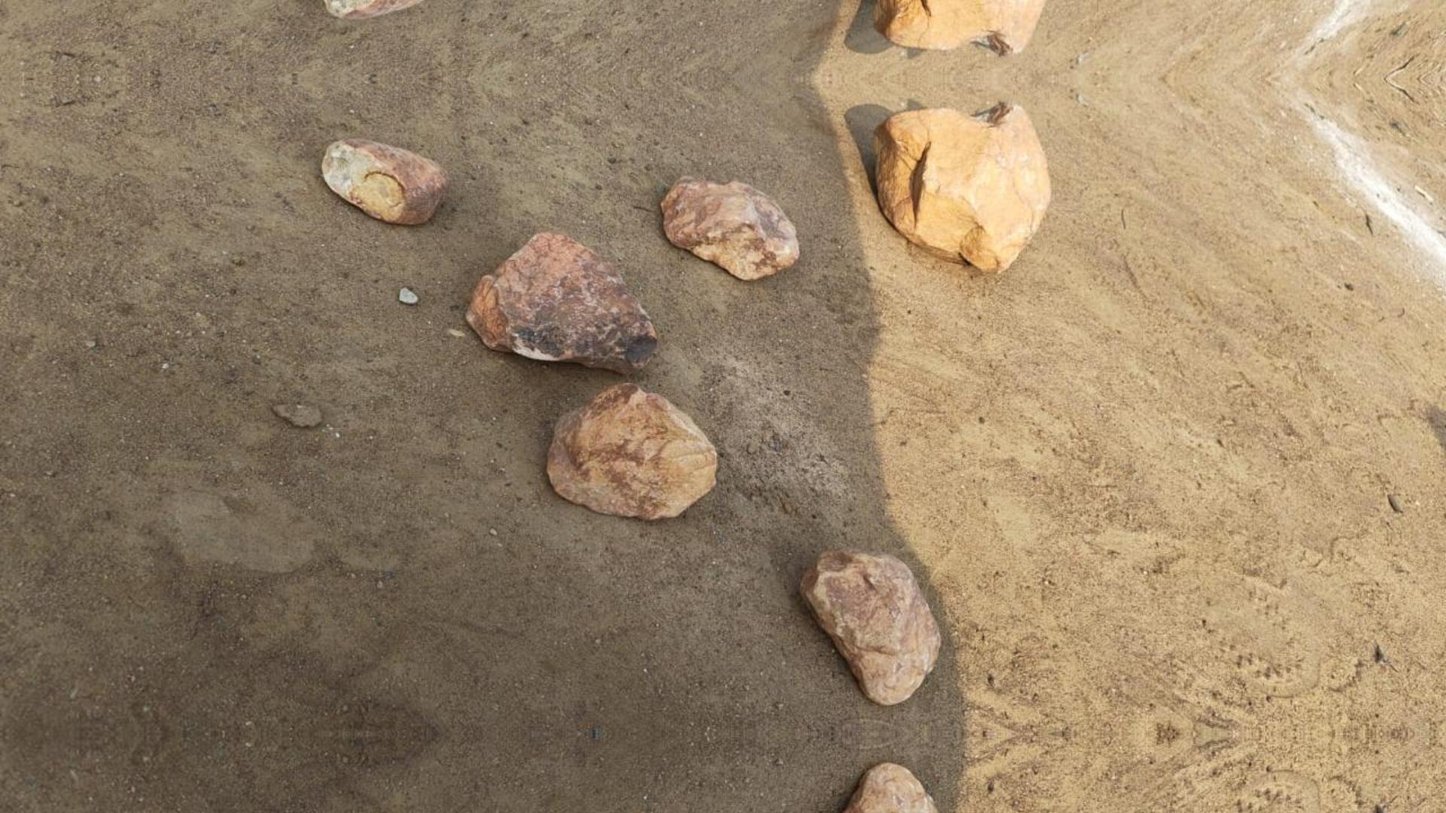rock: (874, 102, 1049, 271), (465, 233, 656, 373), (547, 383, 716, 518), (800, 550, 940, 703), (661, 177, 799, 279), (321, 139, 447, 224), (874, 0, 1044, 54), (842, 762, 938, 812), (324, 0, 419, 19)
